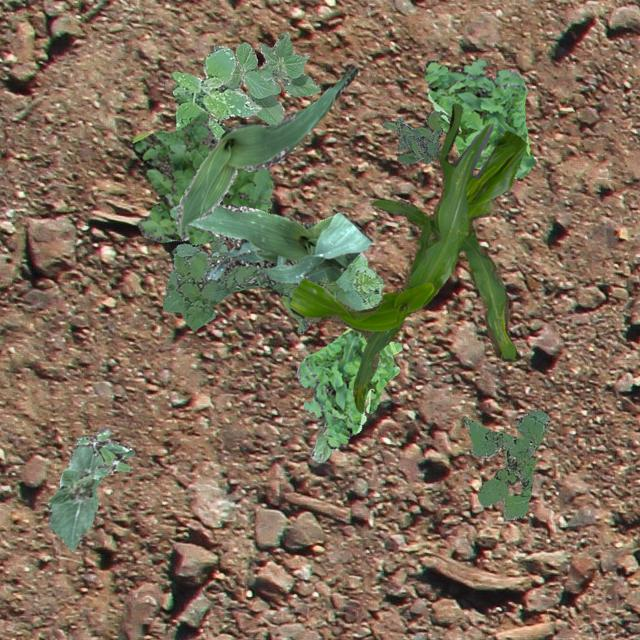crop: (288, 102, 526, 412), (176, 64, 357, 240), (168, 202, 370, 282), (222, 31, 320, 124), (46, 444, 104, 550), (311, 421, 334, 462)
weed: (162, 232, 384, 332), (132, 110, 272, 246), (422, 58, 534, 178), (296, 327, 402, 448), (462, 408, 548, 518), (170, 45, 262, 142), (381, 108, 449, 162), (74, 426, 134, 478)
